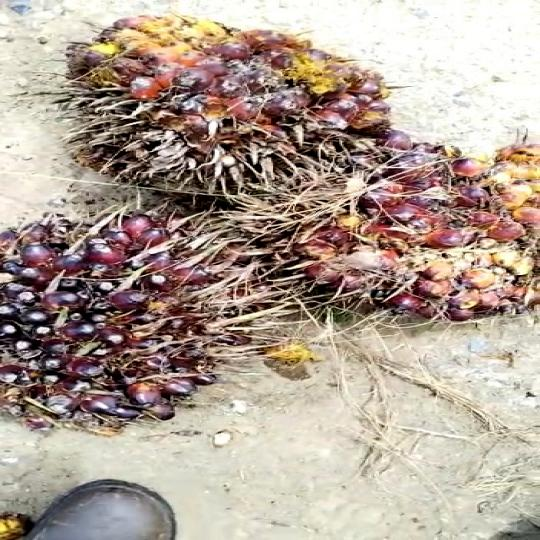masak: (56, 11, 394, 213), (0, 189, 267, 439), (237, 132, 540, 340)
